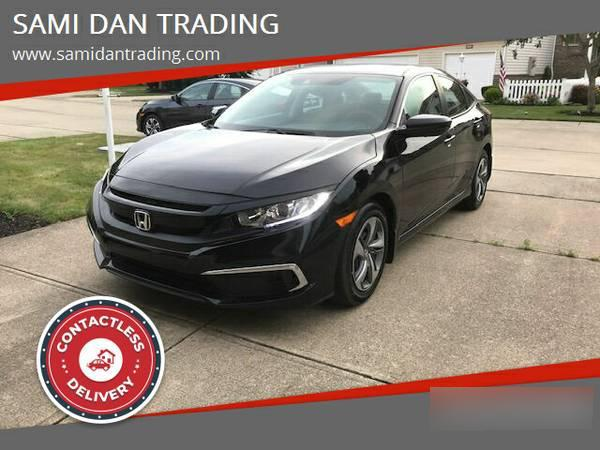Front_Bumper: (83, 184, 359, 307)
Front_Fender: (318, 126, 402, 256)
Front_Left_Door: (395, 121, 451, 238)
Front_Left_Window: (395, 76, 446, 142)
Front_Windshield: (213, 71, 405, 141)
Hood: (103, 121, 377, 205)
Left_Headlight: (238, 187, 332, 233)
Rear_Left_Door: (450, 102, 491, 204)
Rear_Left_Window: (430, 76, 472, 120)
Roof: (286, 62, 481, 133)
Wheel: (341, 203, 391, 300), (472, 154, 489, 202)
